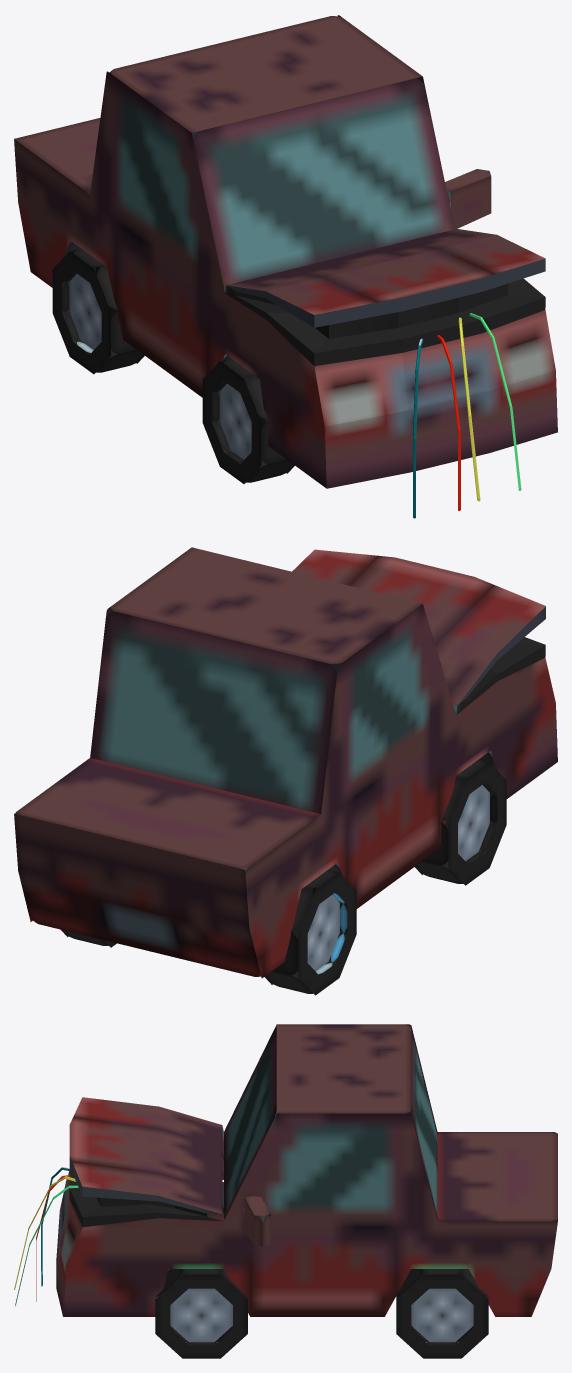
File: truck2.fbx
The picture shows the model from 3 angles, top to bottom: view 1: azimuth 30°, elevation 25°; view 2: azimuth 150°, elevation 25°; view 3: azimuth 270°, elevation 25°; orthographic projection. The views are drawn at different scales.
Parts seen in each view (by area): view 1: cuboid, cylinder, cylinder_1, cuboid_1, cylinder_6, cylinder_5, cylinder_7; view 2: cuboid, cylinder, cylinder_1; view 3: cuboid, cylinder_3, cylinder_2, cuboid_1.
Boxes of the visible parts, x1=… form: cuboid: x1=14, y1=15, x2=557, y2=488; cylinder: x1=52, y1=248, x2=144, y2=374; cylinder_1: x1=202, y1=358, x2=294, y2=483; cuboid_1: x1=445, y1=169, x2=491, y2=229; cylinder_6: x1=458, y1=317, x2=480, y2=501; cylinder_5: x1=412, y1=338, x2=423, y2=518; cylinder_7: x1=469, y1=313, x2=521, y2=490; cuboid: x1=14, y1=547, x2=557, y2=978; cylinder: x1=264, y1=869, x2=356, y2=995; cylinder_1: x1=415, y1=759, x2=506, y2=885; cuboid: x1=56, y1=1024, x2=557, y2=1316; cylinder_3: x1=396, y1=1269, x2=488, y2=1358; cylinder_2: x1=155, y1=1269, x2=247, y2=1358; cuboid_1: x1=241, y1=1195, x2=270, y2=1246.
Size of the model in its own units: 128 by 127 by 258.
2 materials, 2 textured.
